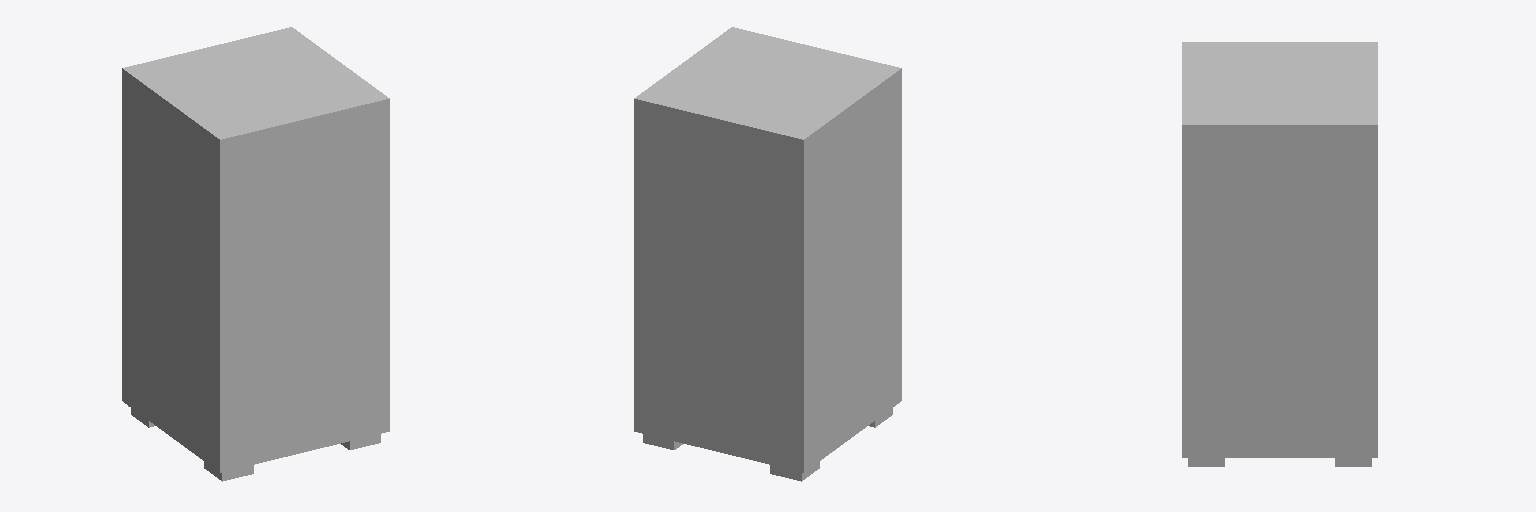
File: geladeira_closed.obj
3 views of the same model, side by side, from view 1: azimuth 30°, elevation 25°; view 2: azimuth 150°, elevation 25°; view 3: azimuth 270°, elevation 25° (orthographic).
Parts seen in each view (by area): view 1: corpo, pe; view 2: corpo, porta, pe; view 3: corpo, pe.
Boxes of the visible parts, <box> form: corpo: <box>122,27,389,472</box>; pe: <box>131,408,380,481</box>; corpo: <box>634,27,901,471</box>; porta: <box>634,99,803,472</box>; pe: <box>643,408,892,481</box>; corpo: <box>1182,42,1377,457</box>; pe: <box>1188,458,1371,466</box>.
Bounding box in the file's own units: 1 × 1.94 × 1.